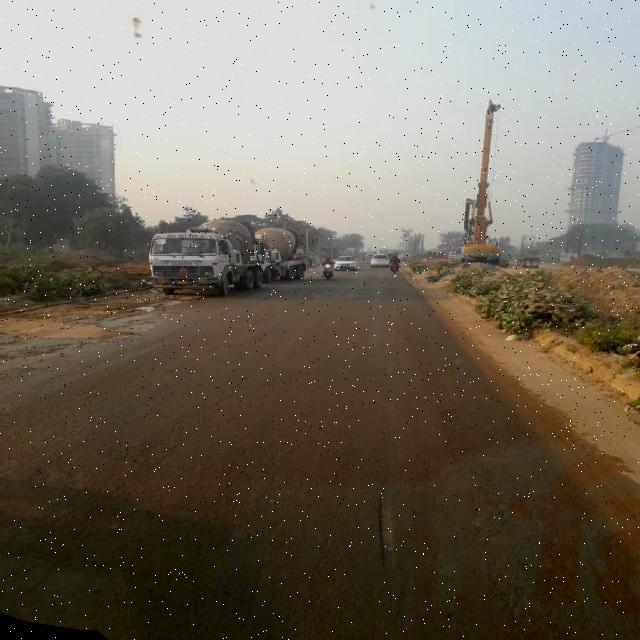D00: (371, 479, 399, 569)
